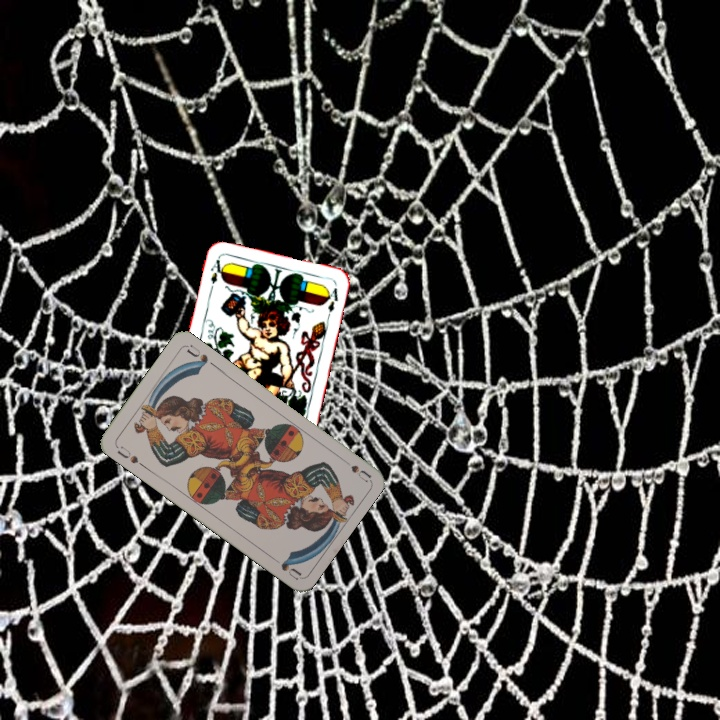EA: (205, 255, 225, 295)
SU: (336, 453, 373, 484), (112, 442, 147, 470)
